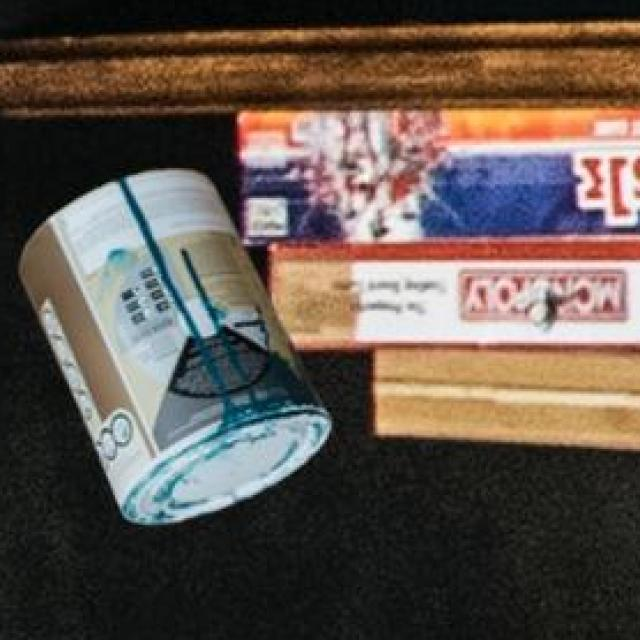logam: (24, 174, 335, 528)
